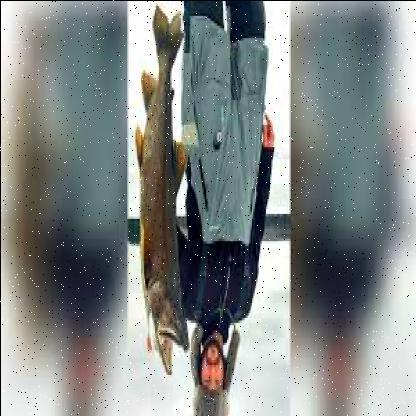fish: (132, 7, 192, 384)
